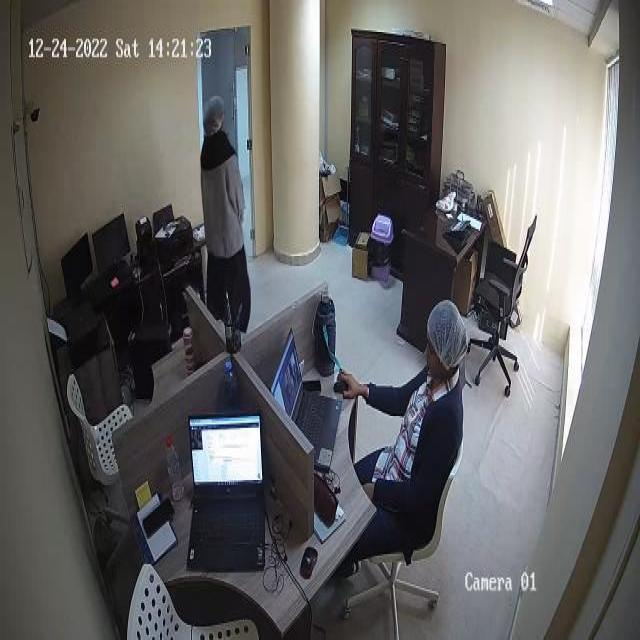bare_hand: (331, 362, 373, 408)
